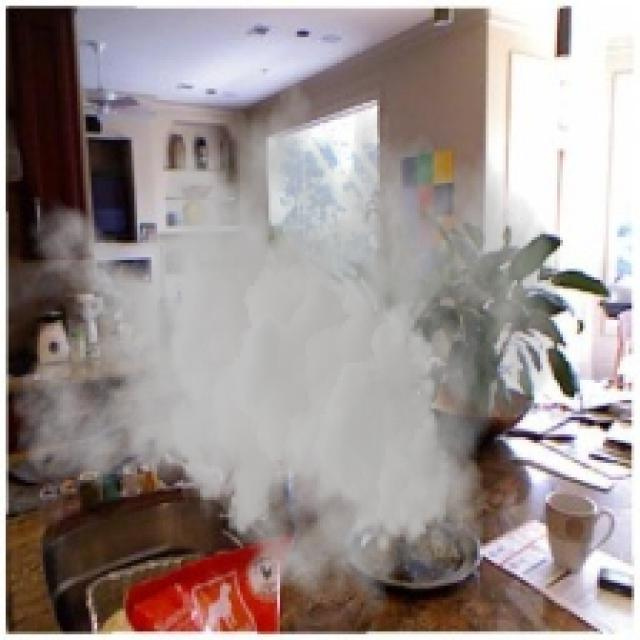smoke: (8, 49, 563, 617)
